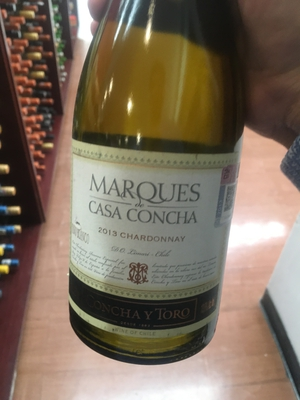marques de casa concha chardonnay: (43, 20, 274, 369)
